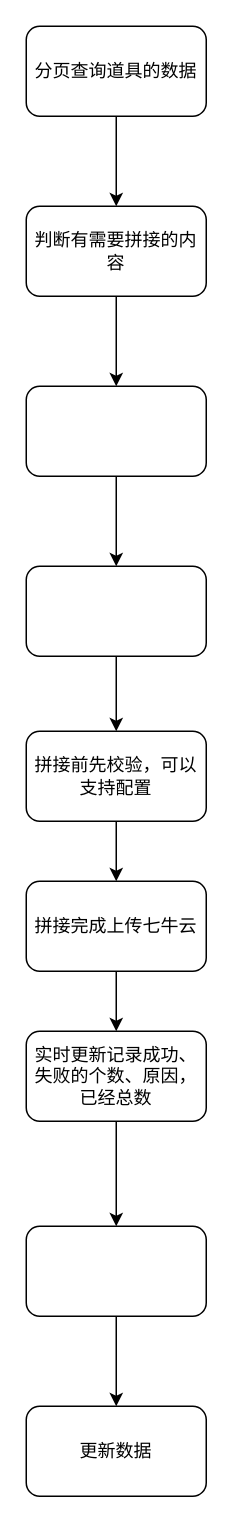
This 233x1523 diagram has some shape labels left out. The centre of each missing label's shape, as x and y in pixels:
分页拿需要拼接的数据: (115,430)
分页时，自动跳过已经失败的个数: (115,1270)
动态计算调整分页的大小: (115,610)
